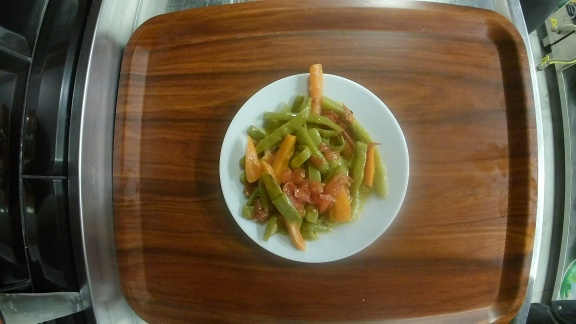tazefasulye: (218, 66, 411, 263)
